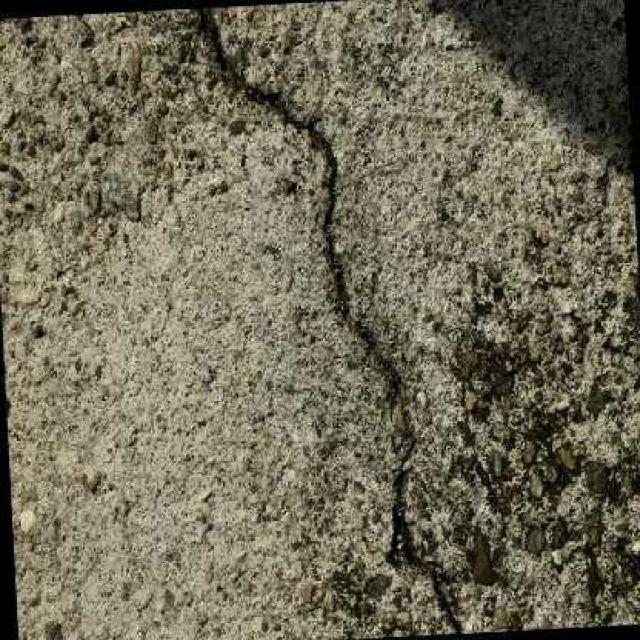D00: (202, 10, 459, 634)
